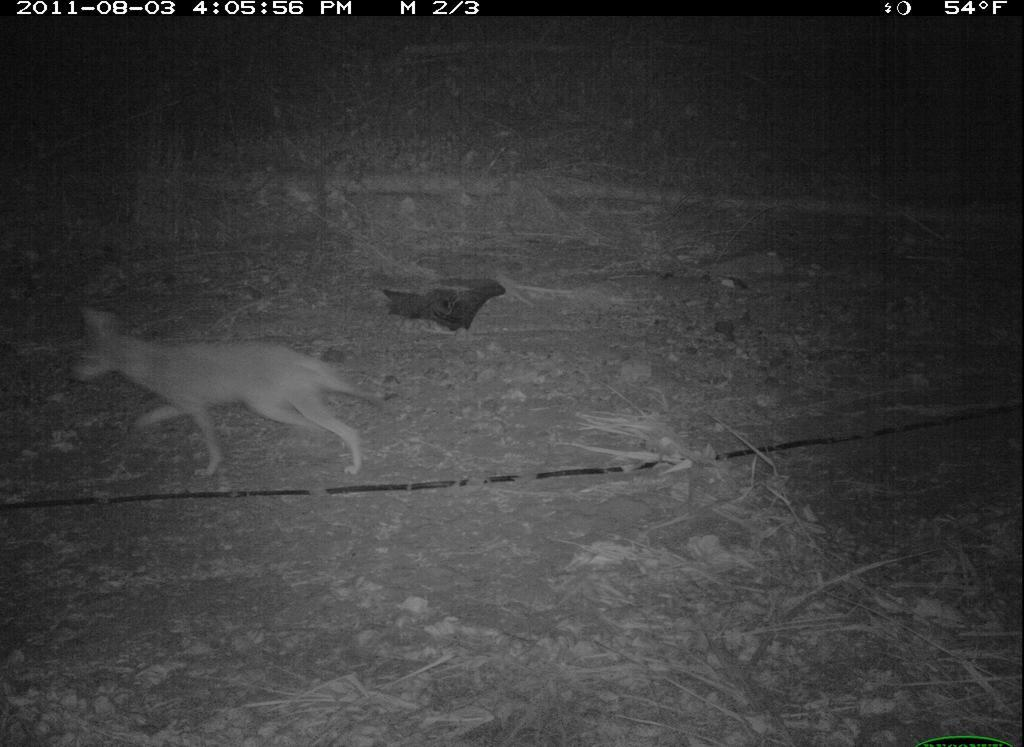coyote: (76, 297, 388, 500)
